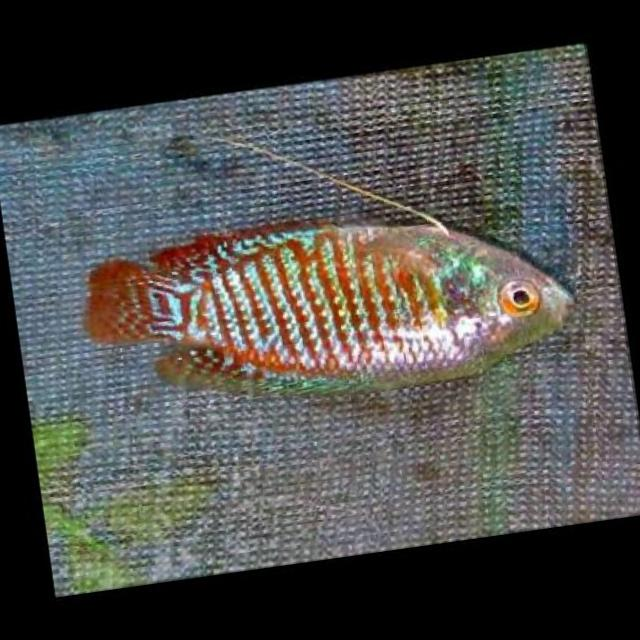Gourami: (68, 172, 582, 441)
